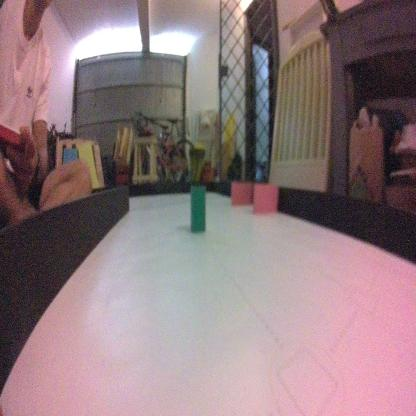green: (189, 183, 207, 235)
magenta: (247, 183, 278, 219), (228, 175, 252, 205)
